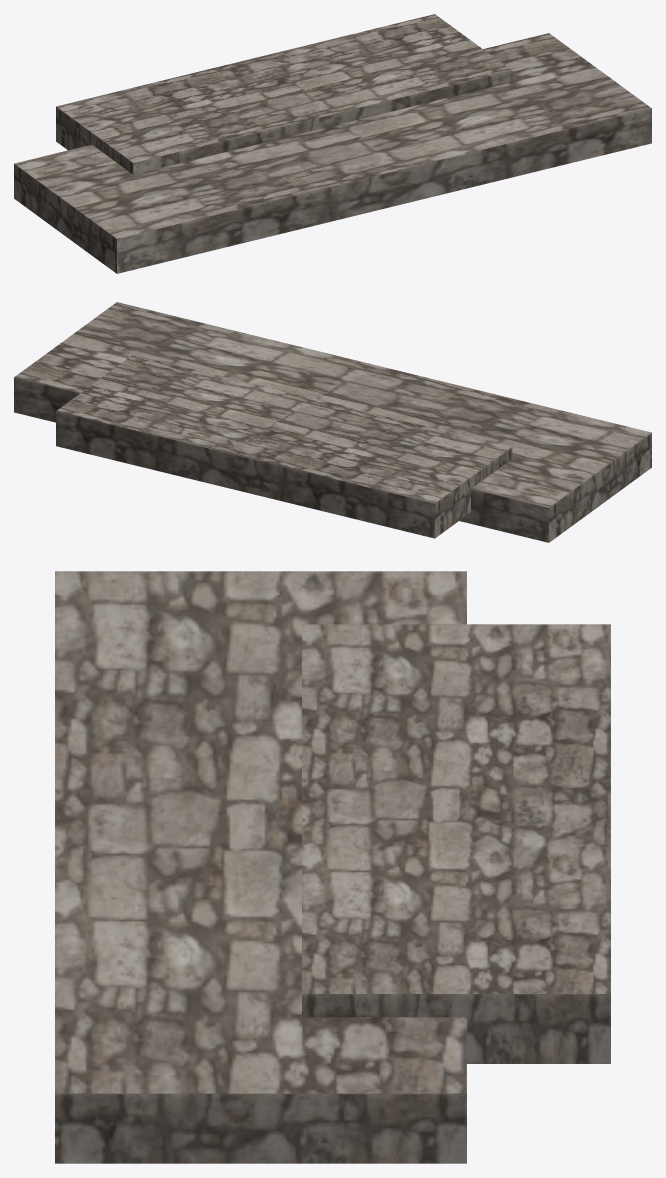
File: BW_Chapel01_Steps.fbx
3 renders of one model, top to bottom at view 1: azimuth 30°, elevation 25°; view 2: azimuth 150°, elevation 25°; view 3: azimuth 270°, elevation 25°, orthographic. The views are drawn at different scales.
Parts seen in each view (by area): view 1: BW_Chapel01_Steps; view 2: BW_Chapel01_Steps; view 3: BW_Chapel01_Steps.
Boxes of the visible parts, box(x1,y1,x2,y2) form: BW_Chapel01_Steps: box(14, 14, 651, 273); BW_Chapel01_Steps: box(14, 302, 651, 542); BW_Chapel01_Steps: box(55, 571, 610, 1163).
Bounding box in the file's own units: 2.4 × 0.2 × 1.08.
